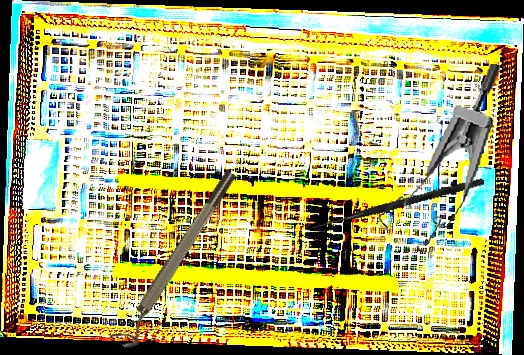Fixation Ring: (109, 167, 247, 353)
Hook Surgical: (311, 175, 485, 234)
Speculum: (373, 49, 504, 261)
